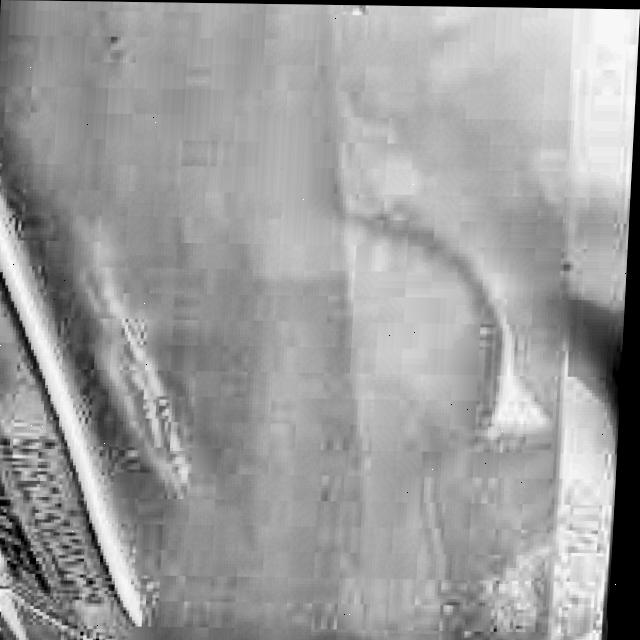door_dent: (474, 275, 571, 456)
